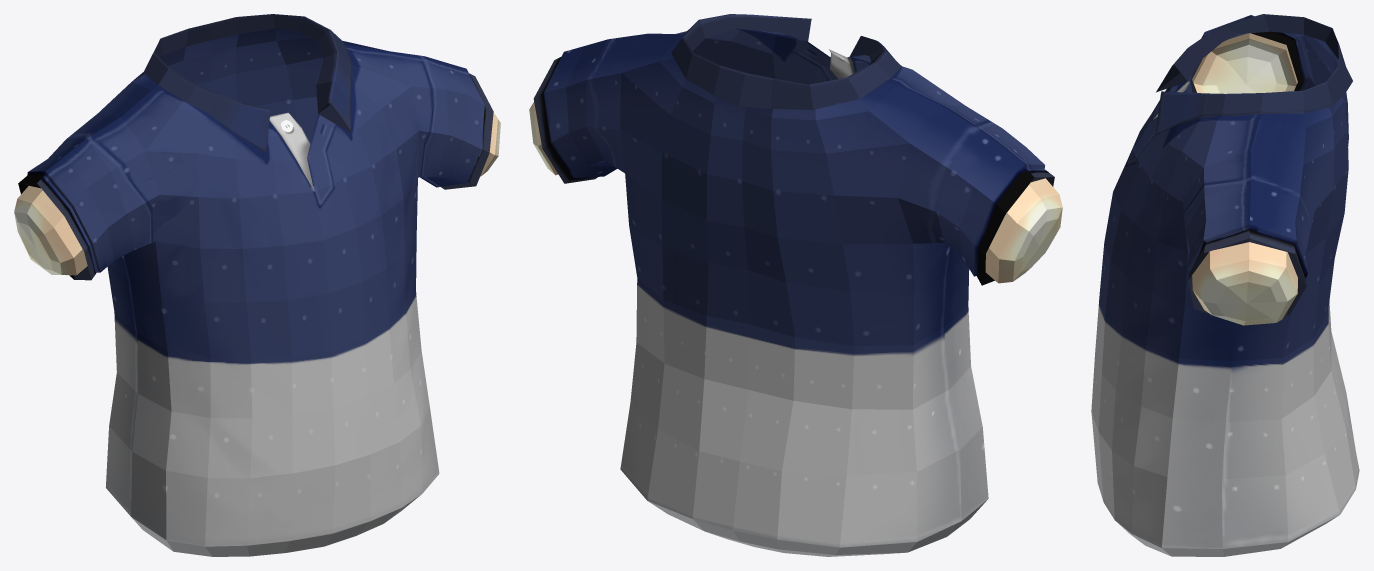
Rendered from boy_body2.FBX.
The picture shows the model from 3 angles, left to right: view 1: azimuth 30°, elevation 25°; view 2: azimuth 150°, elevation 25°; view 3: azimuth 270°, elevation 25°; orthographic projection. The views are drawn at different scales.
Visible parts, largest first — view 1: boy_body25; view 2: boy_body25; view 3: boy_body25.
Part boxes in pixels (x1,y1,x2,y2): boy_body25: [14, 14, 500, 556]; boy_body25: [529, 14, 1062, 556]; boy_body25: [1091, 14, 1359, 556].
Bounding box in the file's own units: 45.94 × 42.99 × 23.03.
